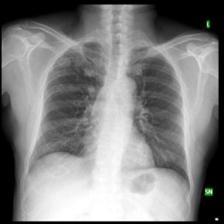tuberculosis: (23, 29, 193, 194)
